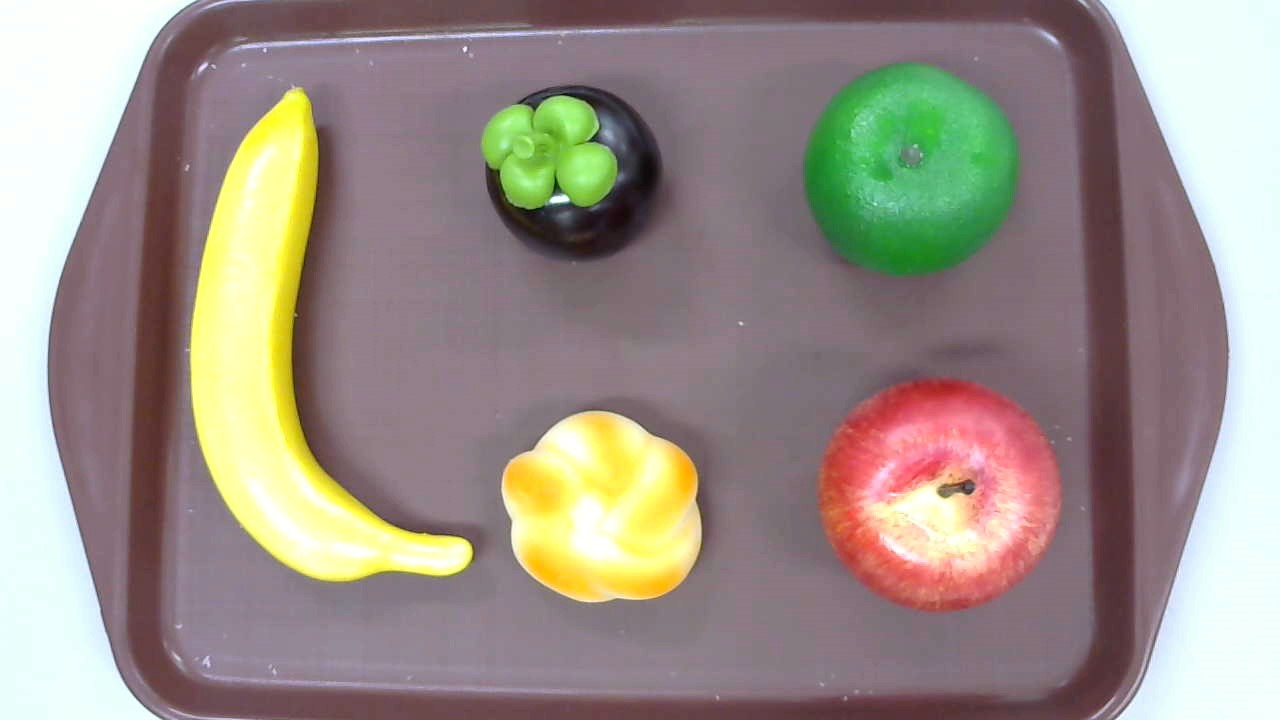banana: (191, 86, 472, 581)
green orange: (803, 62, 1021, 278)
mangosteen: (482, 84, 663, 265)
red apple: (817, 377, 1060, 614)
twist bread: (501, 410, 702, 603)
